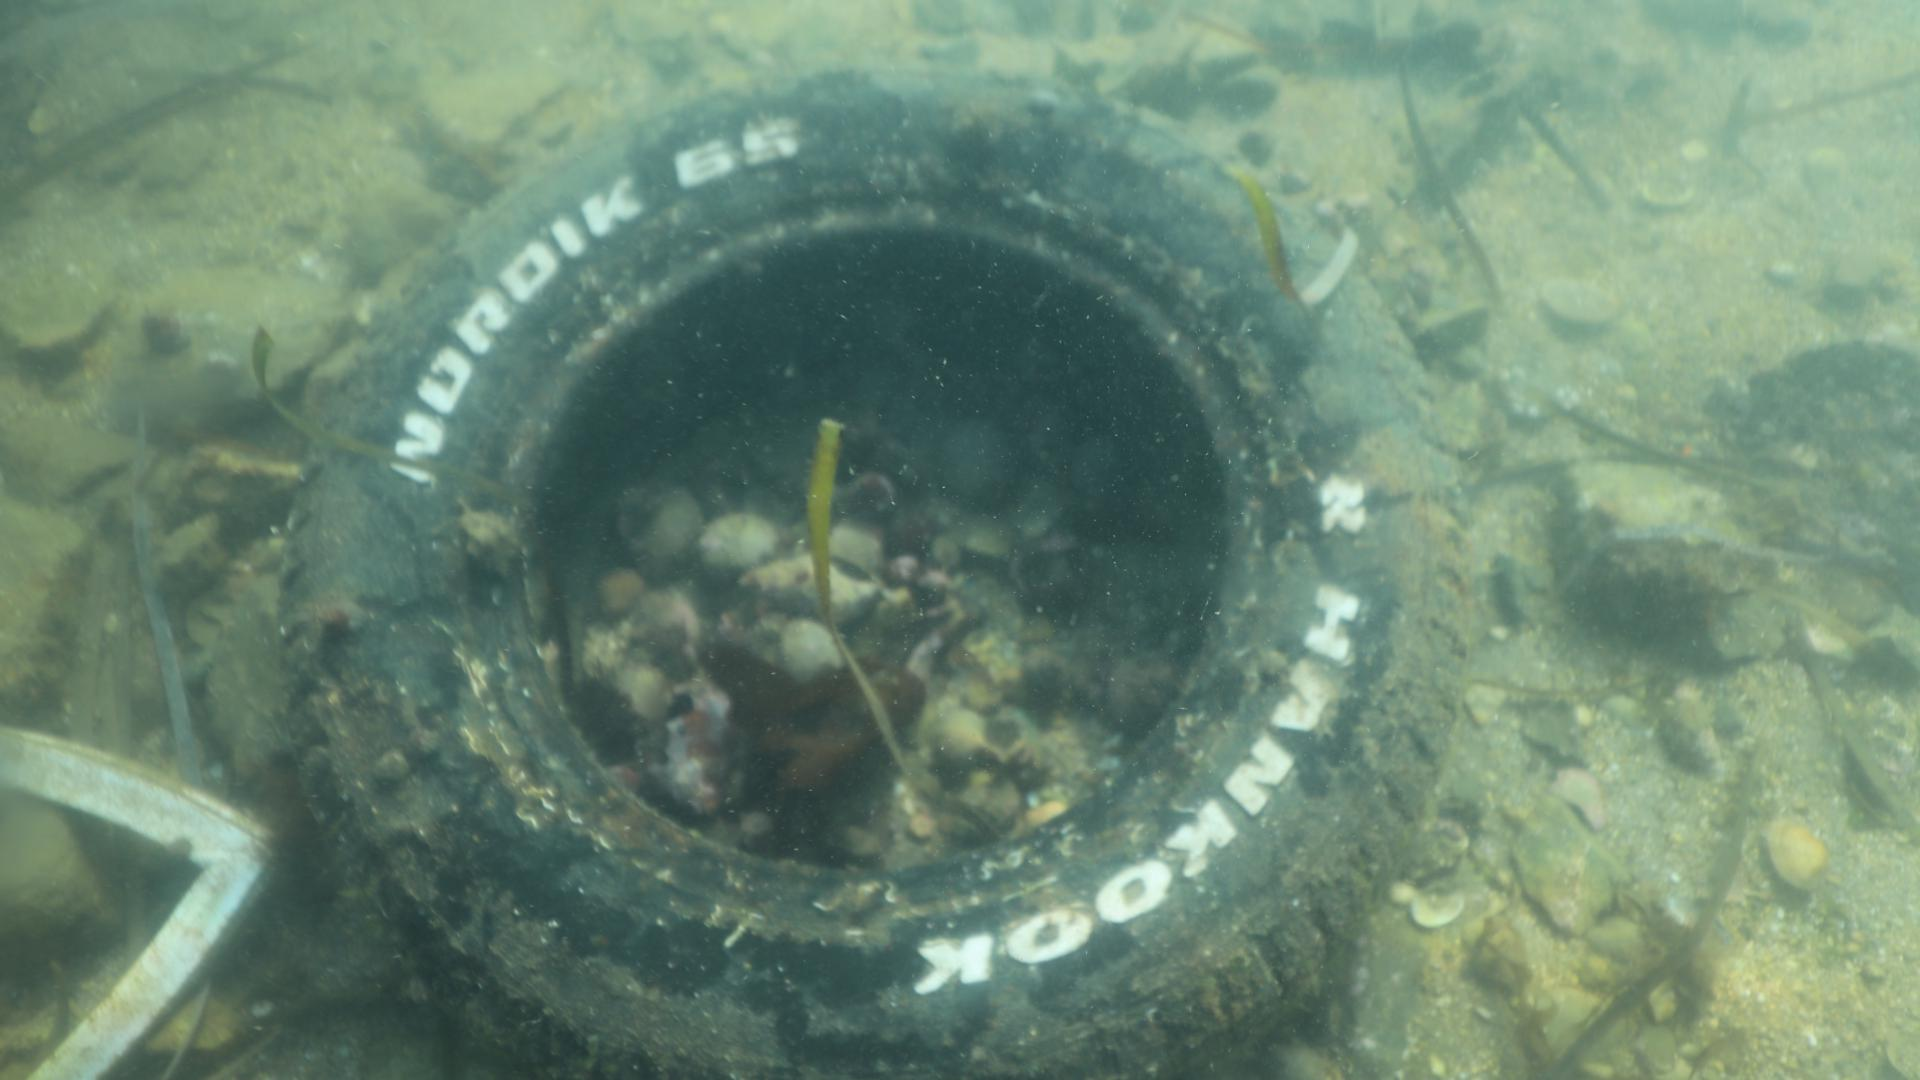tire: (276, 65, 1466, 1080)
